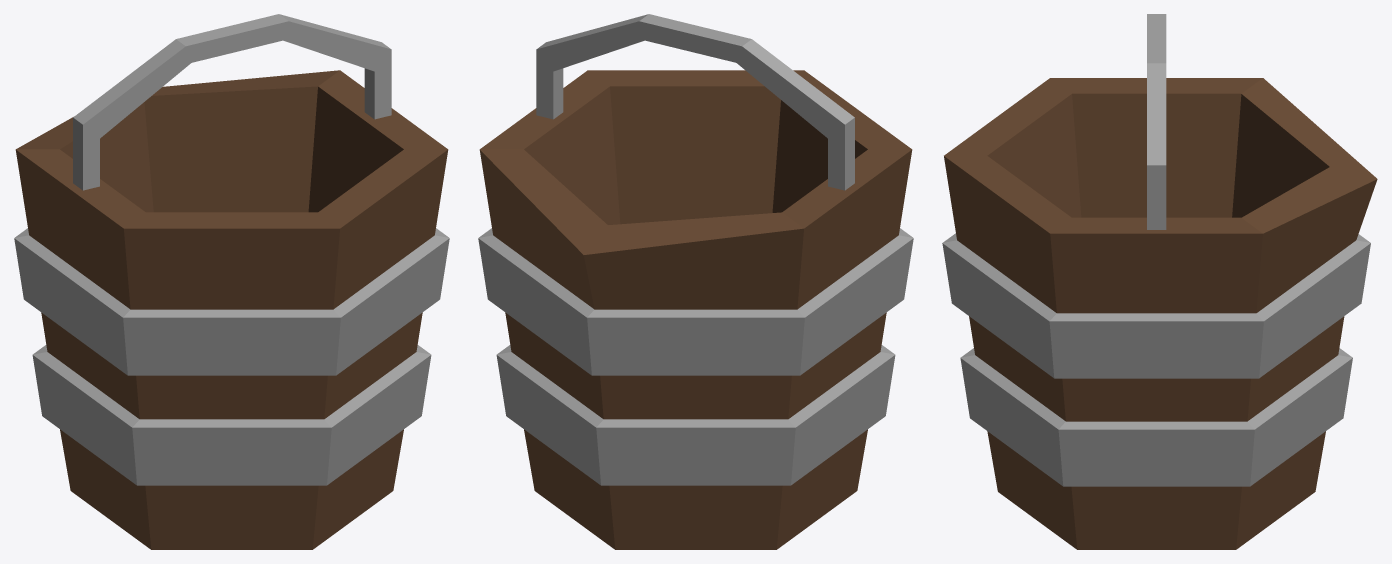
File: Bucket_mat.fbx
3 views of the same model, side by side, from view 1: azimuth 30°, elevation 25°; view 2: azimuth 150°, elevation 25°; view 3: azimuth 270°, elevation 25° (orthographic).
Visible parts, largest first — view 1: Bucket_mat; view 2: Bucket_mat; view 3: Bucket_mat.
Part boxes in pixels (x1,y1,x2,y2): Bucket_mat: [14, 14, 449, 549]; Bucket_mat: [478, 14, 913, 549]; Bucket_mat: [942, 14, 1377, 549].
Size of the model in its own units: 18.61 by 25.08 by 21.82.
